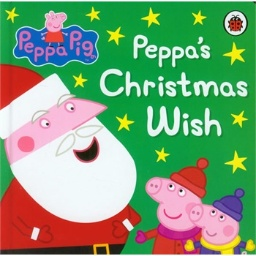Peppa: (137, 157, 212, 256)
